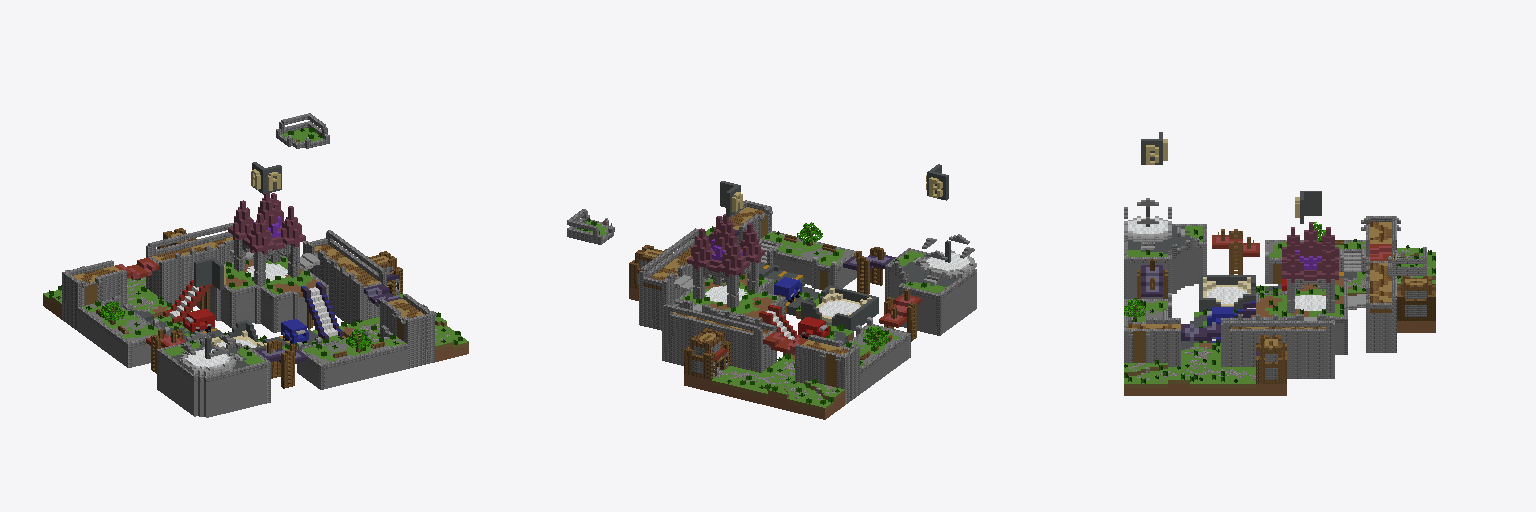
3 views of the same model, side by side, from view 1: azimuth 30°, elevation 25°; view 2: azimuth 150°, elevation 25°; view 3: azimuth 270°, elevation 25° (orthographic).
Size of the model in its own units: 71 by 37 by 71.
Materials: 39 (17 with a texture image).